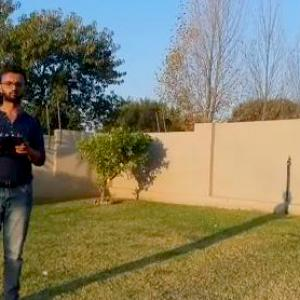follow: (0, 55, 50, 299)
